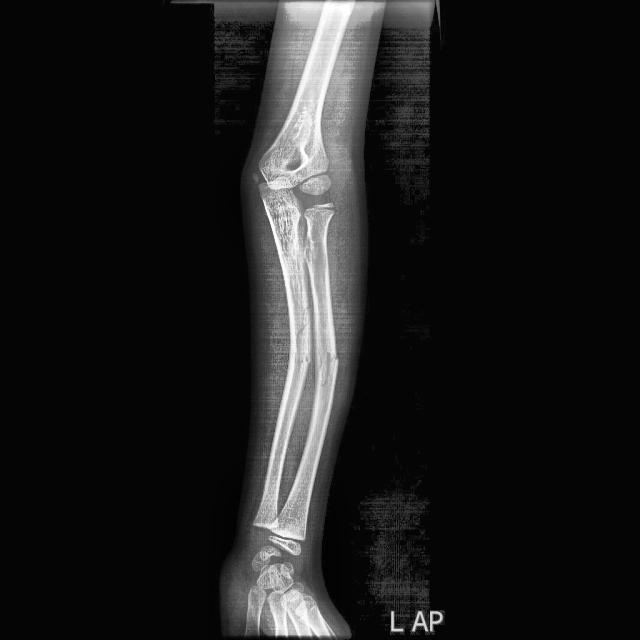angle: (317, 351, 338, 387), (287, 356, 312, 370)
line: (296, 306, 310, 349), (322, 352, 331, 387)
